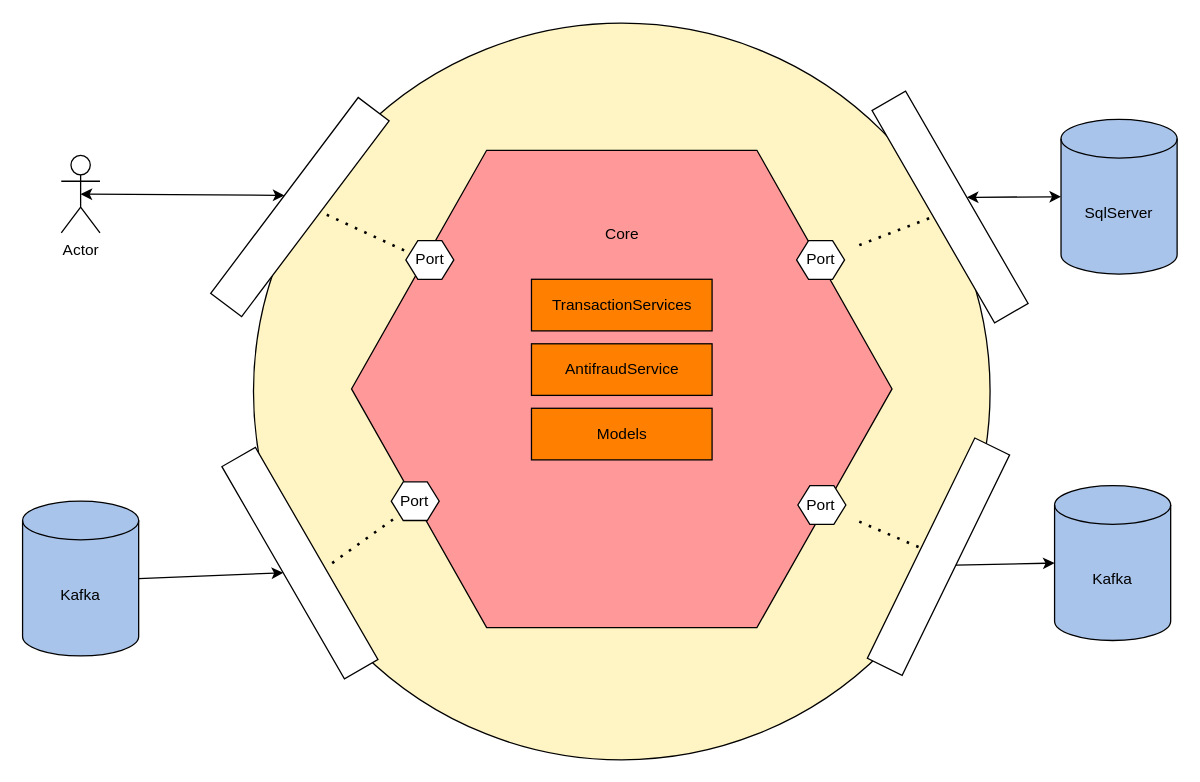
The diagram is 1200 pixels wide and 782 high, and some of its shapes have lost their labels. Each missing label, with the centre of its shape:
Http Controllers: (x=299, y=206)
KafkaConsumerService: (x=299, y=562)
KafkaProducerService: (x=938, y=556)
TransactionRepository: (x=949, y=206)
